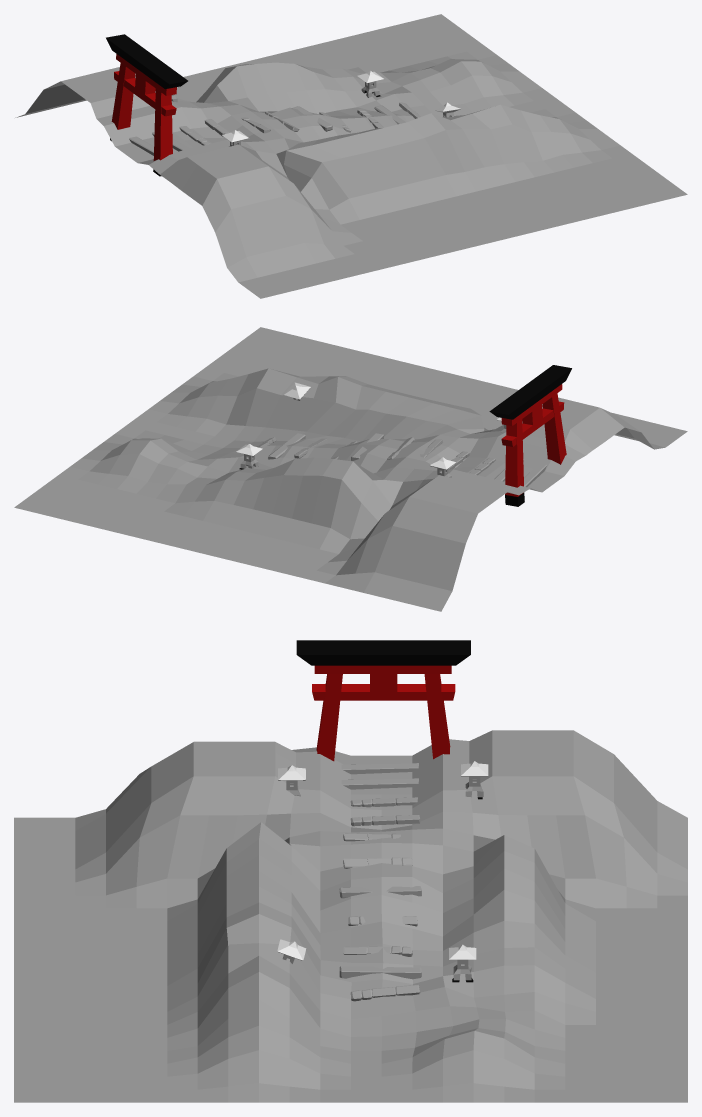
Rendered from OkamiConcept.fbx.
3 renders of one model, top to bottom at view 1: azimuth 30°, elevation 25°; view 2: azimuth 150°, elevation 25°; view 3: azimuth 270°, elevation 25°, orthographic. The views are drawn at different scales.
Visible parts, largest first — view 1: OkamiConcept; view 2: OkamiConcept; view 3: OkamiConcept.
Boxes of the visible parts, x1,y1,x2,y2 form: OkamiConcept: (15, 14, 687, 298); OkamiConcept: (14, 327, 687, 611); OkamiConcept: (14, 640, 687, 1102).
Size of the model in its own units: 796 by 242 by 796.
